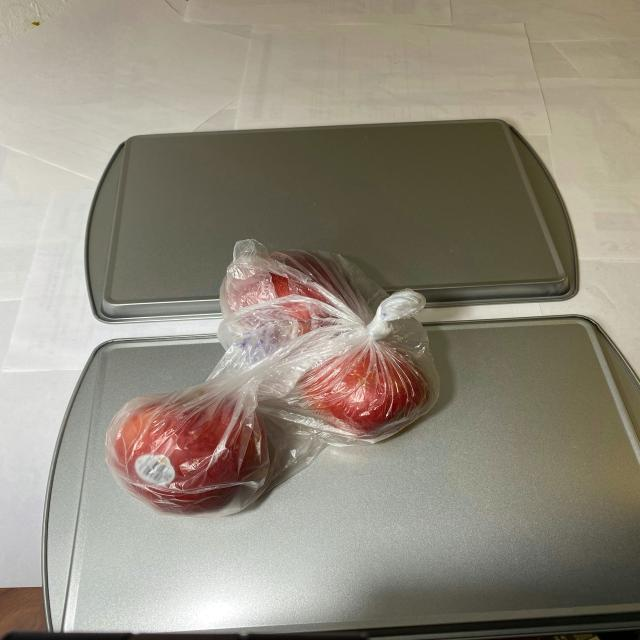apple: (108, 250, 434, 516)
